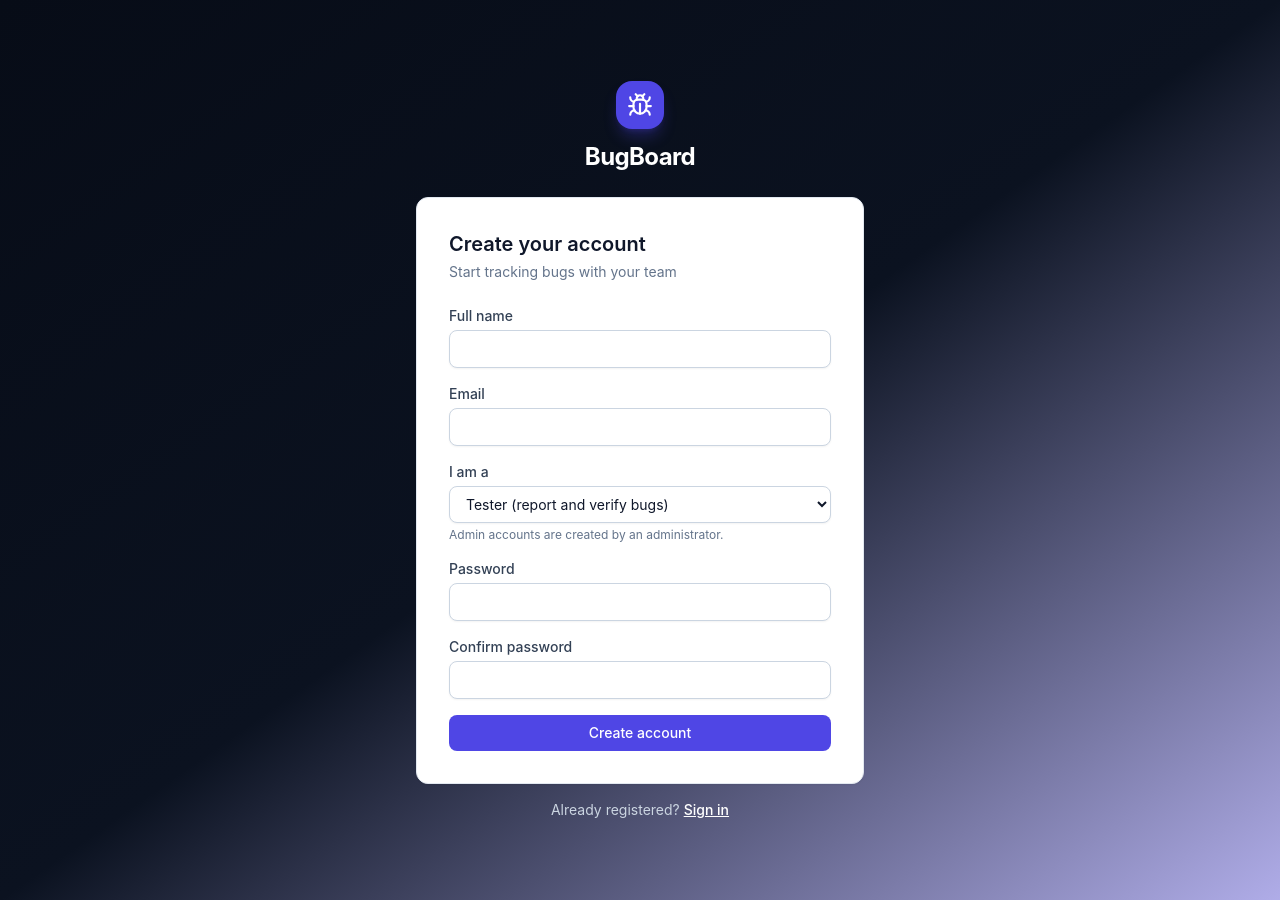
Test: register form › blocks mismatched passwords
Type "New Person" into the field labelled "Full name" at (640, 348), box [449, 330, 831, 368]
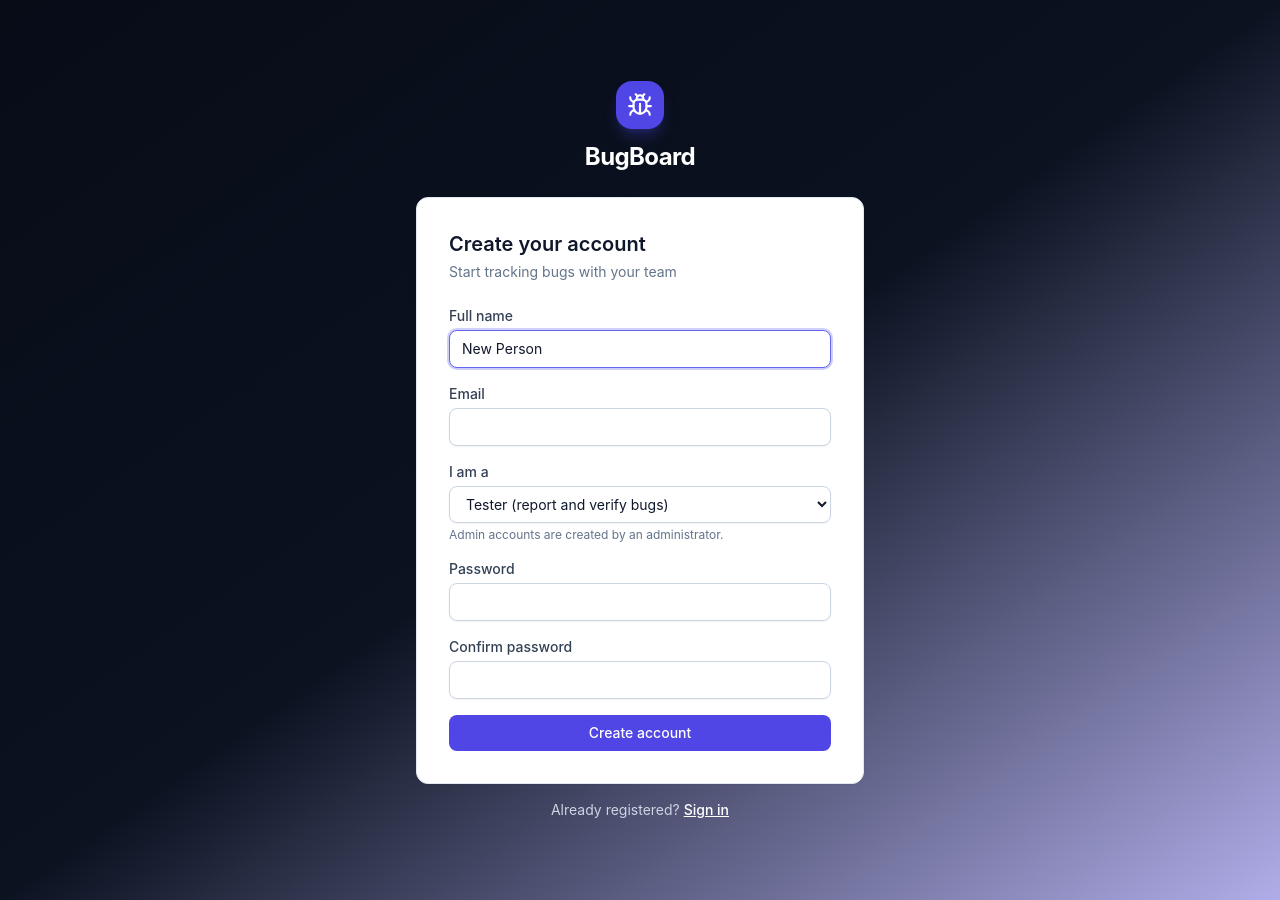
Type "new@test.com" into the field labelled "Email" at (640, 426), box [449, 408, 831, 446]
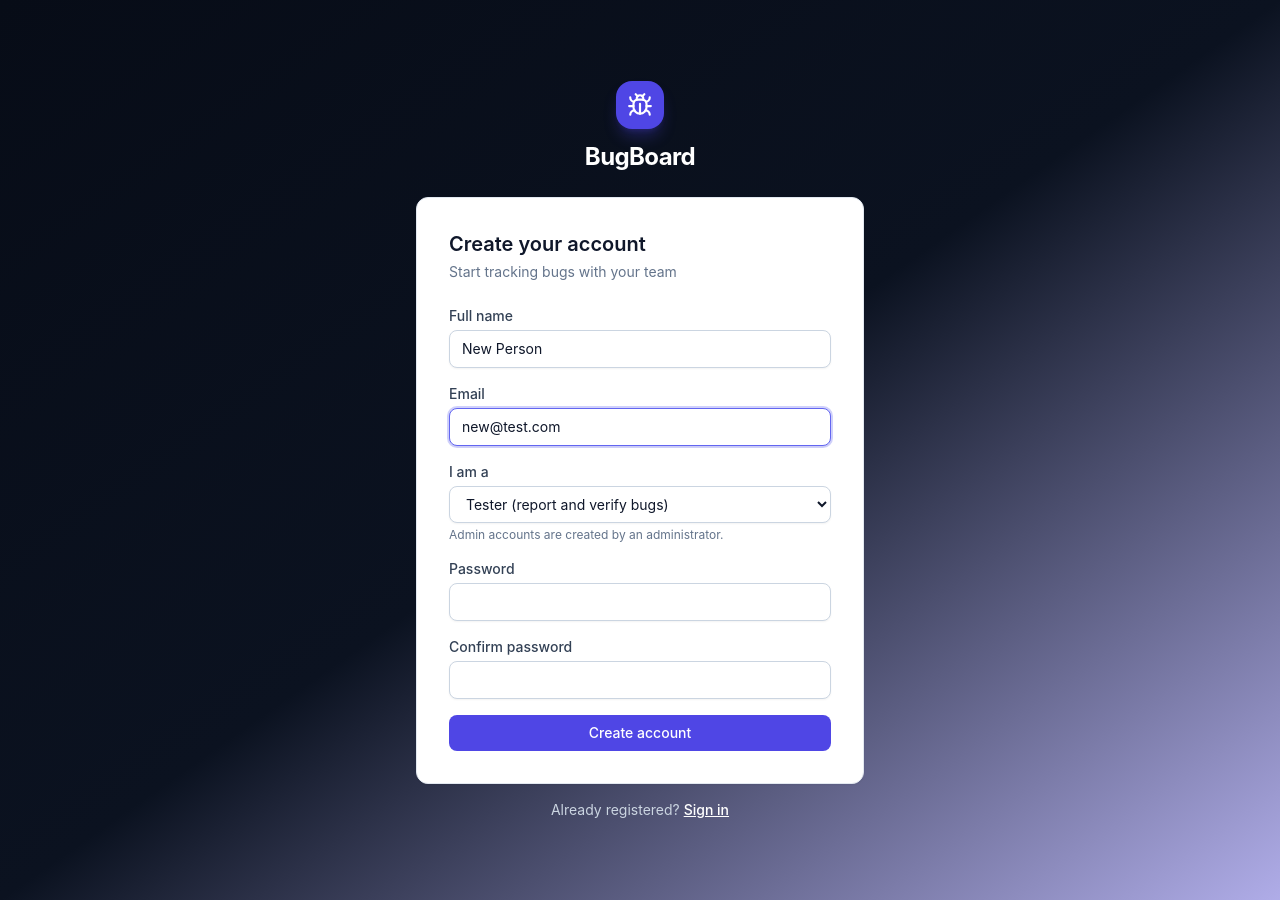
Type "Password123" into the password field labelled "Password" at (640, 602), box [449, 582, 831, 620]
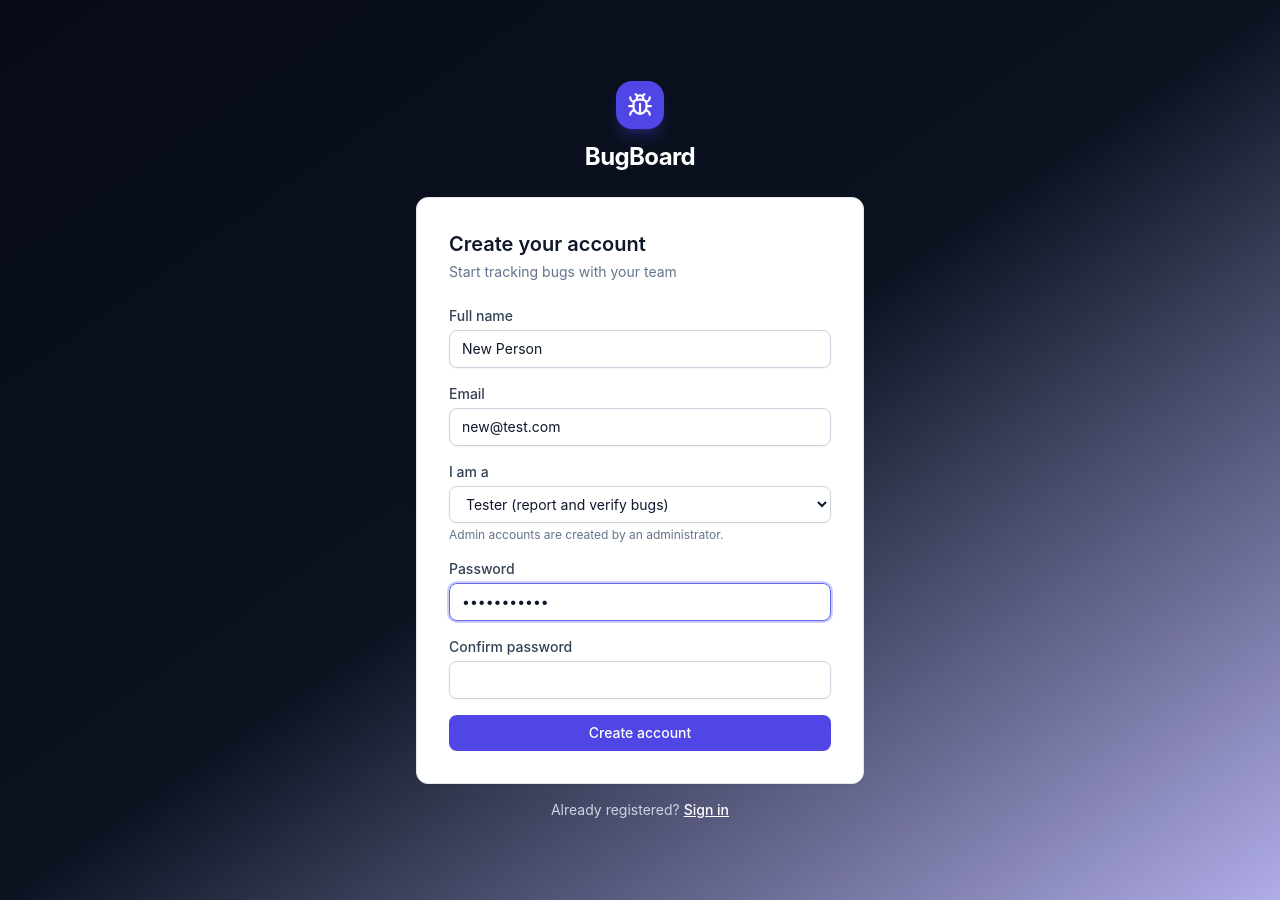
Type "Different123" into the password field labelled "Confirm password" at (640, 680), box [449, 660, 831, 698]
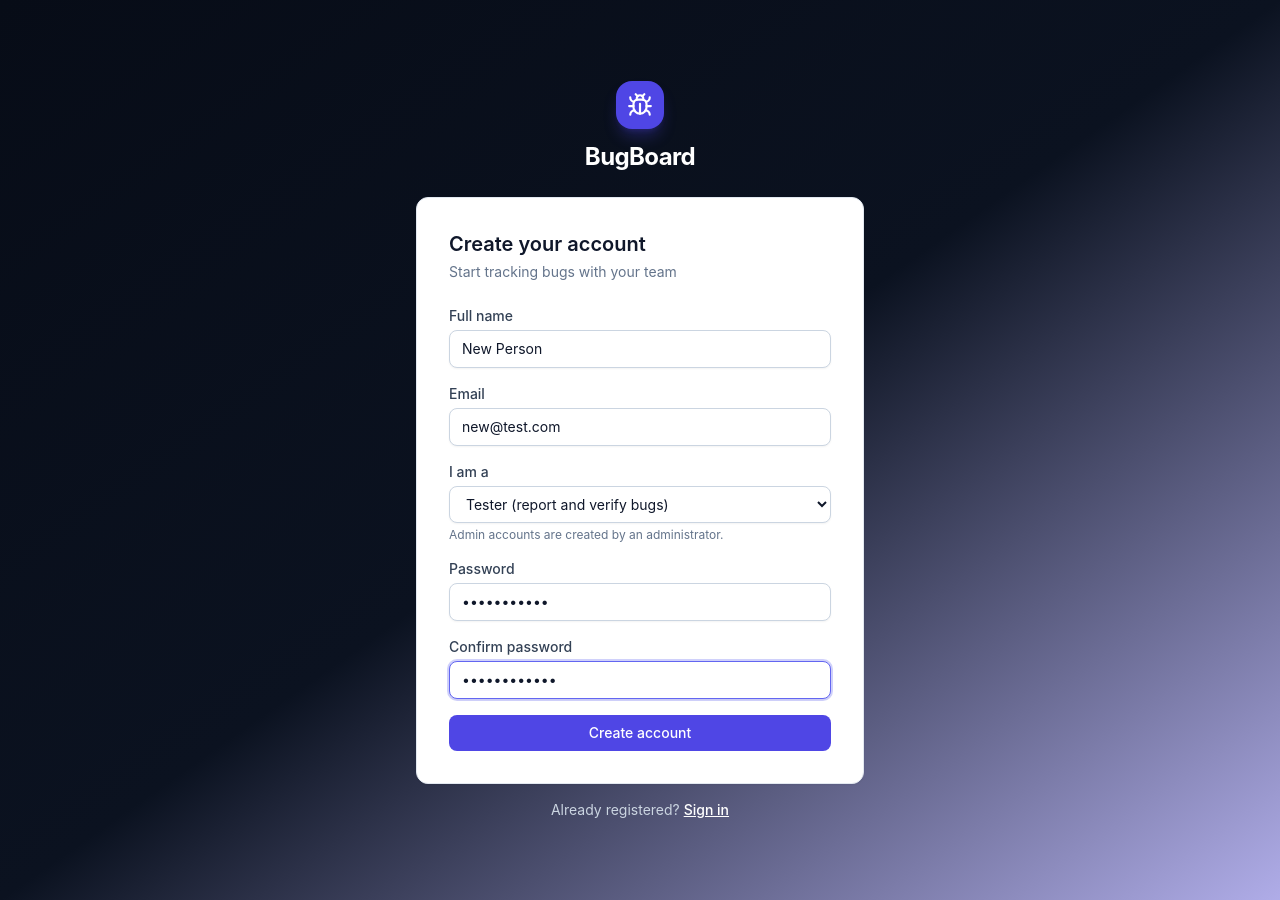
Click the button "Create account" at (640, 732), box [449, 714, 831, 750]
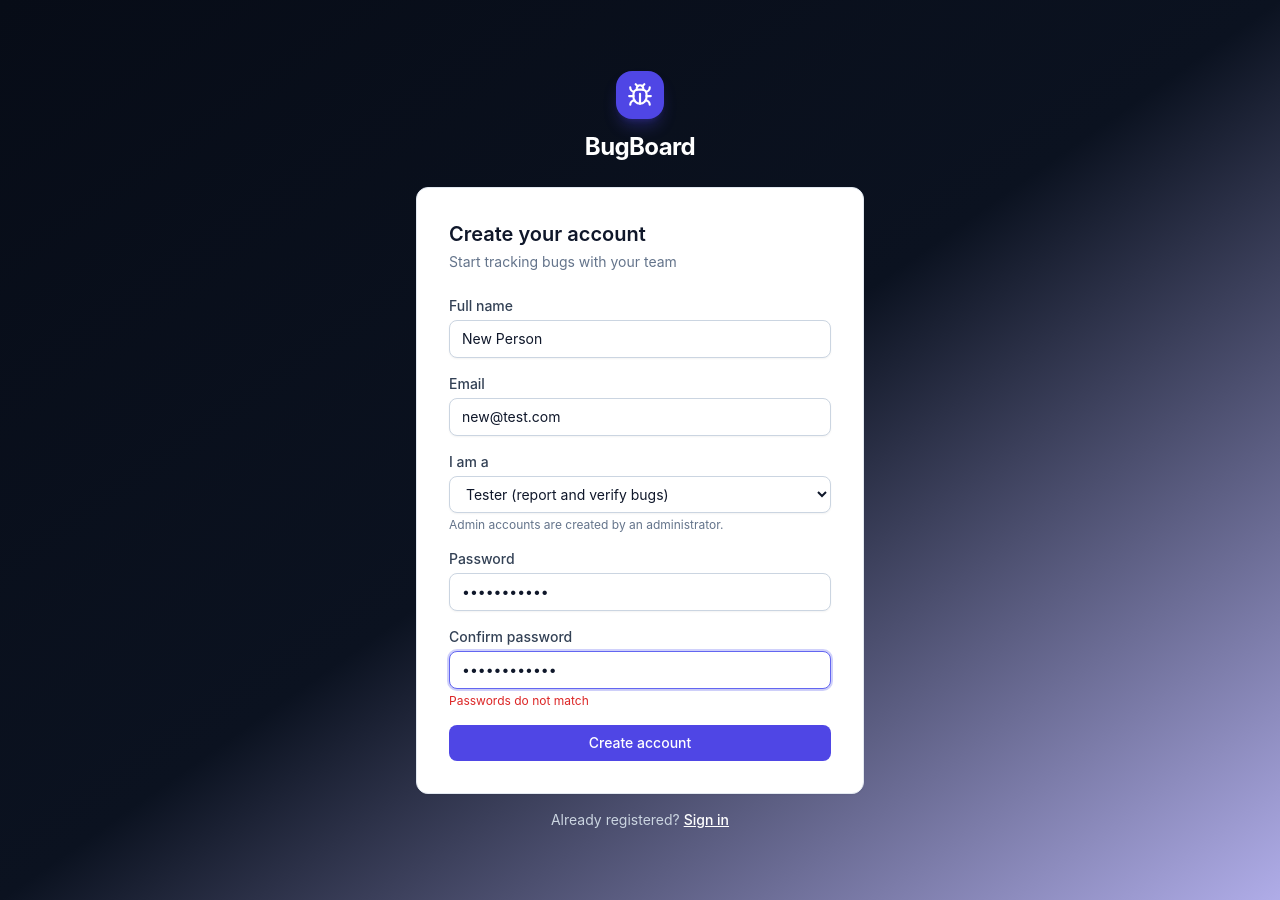
Expected: the text "Passwords do not match" is shown, [449, 692, 589, 708]
